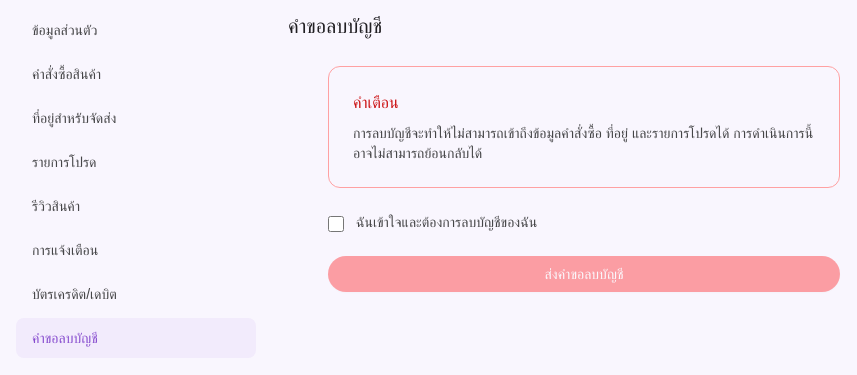
DeleteAccountPage › disables delete request button until confirmation is checked
Expected: the button "ส่งคำขอลบบัญชี" is disabled, left=328, top=256, right=840, bottom=292
Click the checkbox labelled "ฉันเข้าใจและต้องการลบบัญชีของฉัน": click(336, 224) left=328, top=216, right=344, bottom=232
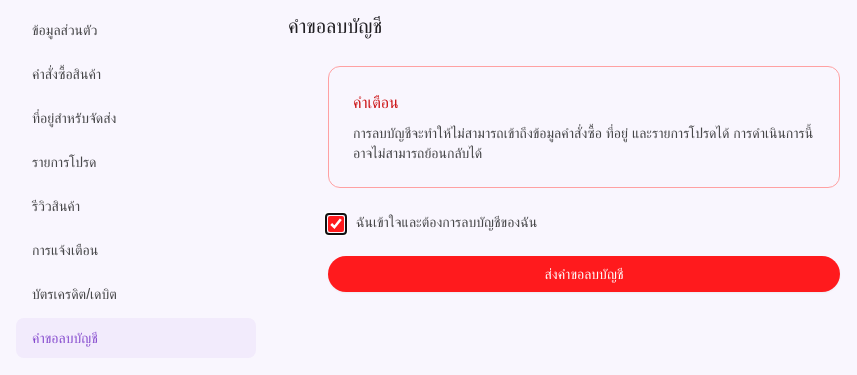
Expected: the button "ส่งคำขอลบบัญชี" is enabled, left=328, top=256, right=840, bottom=292
